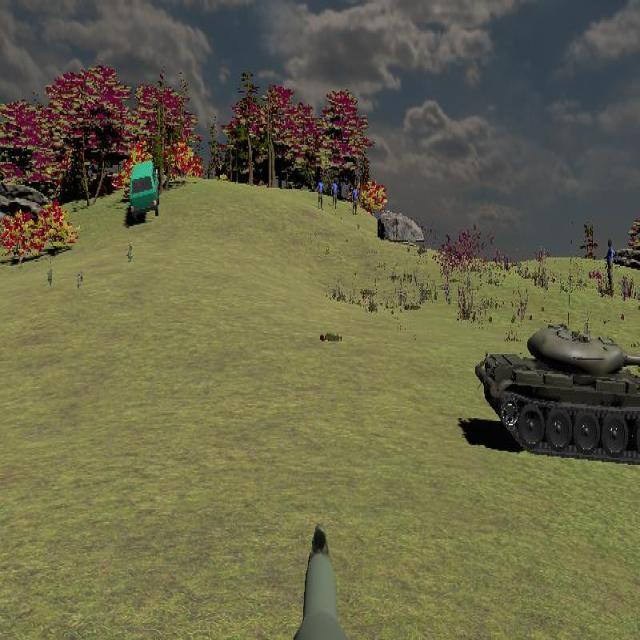Tank: (474, 323, 640, 467)
car: (129, 160, 159, 220)
